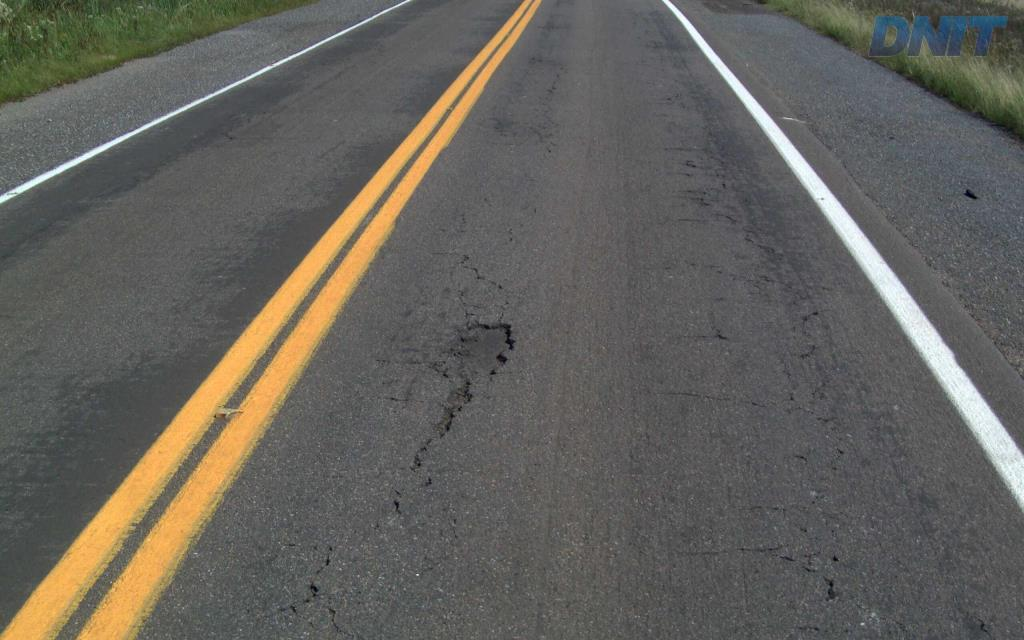pothole: (446, 315, 515, 383)
